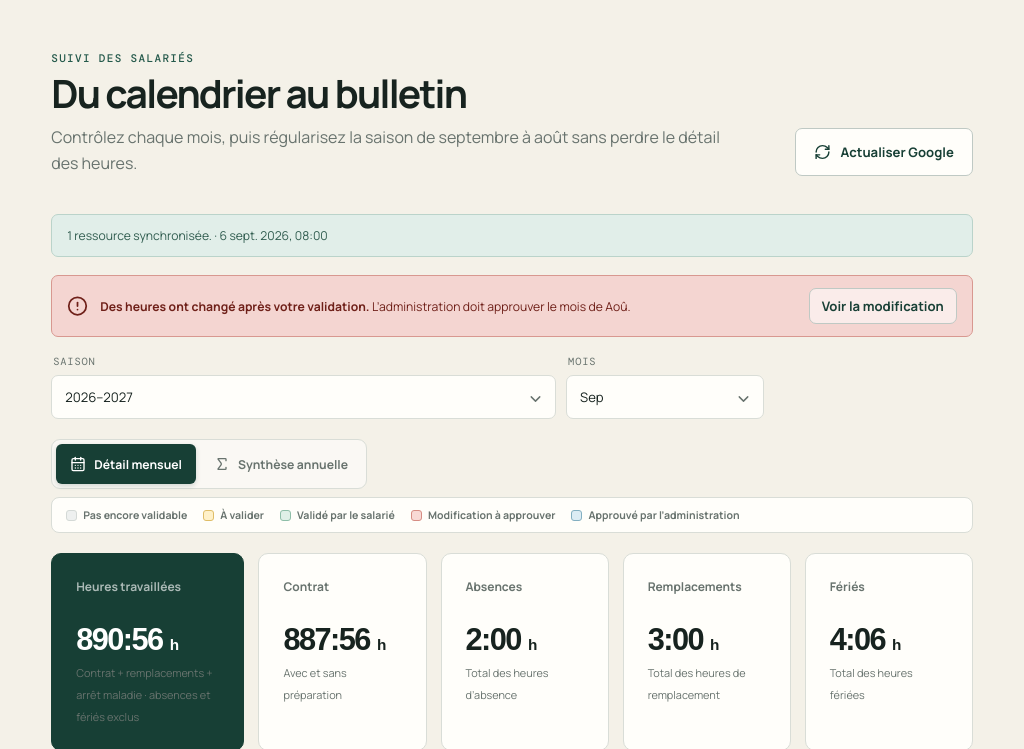
Test: TimeTrackingPage › notifies the employee when a validated month changed
The width and height of the screenshot is (1024, 749).
Check: the text "Des heures ont changé après votre validation." is shown, box [100,298,370,315]
Click the button "Voir la modification" at (883, 306), box [809,288,957,324]
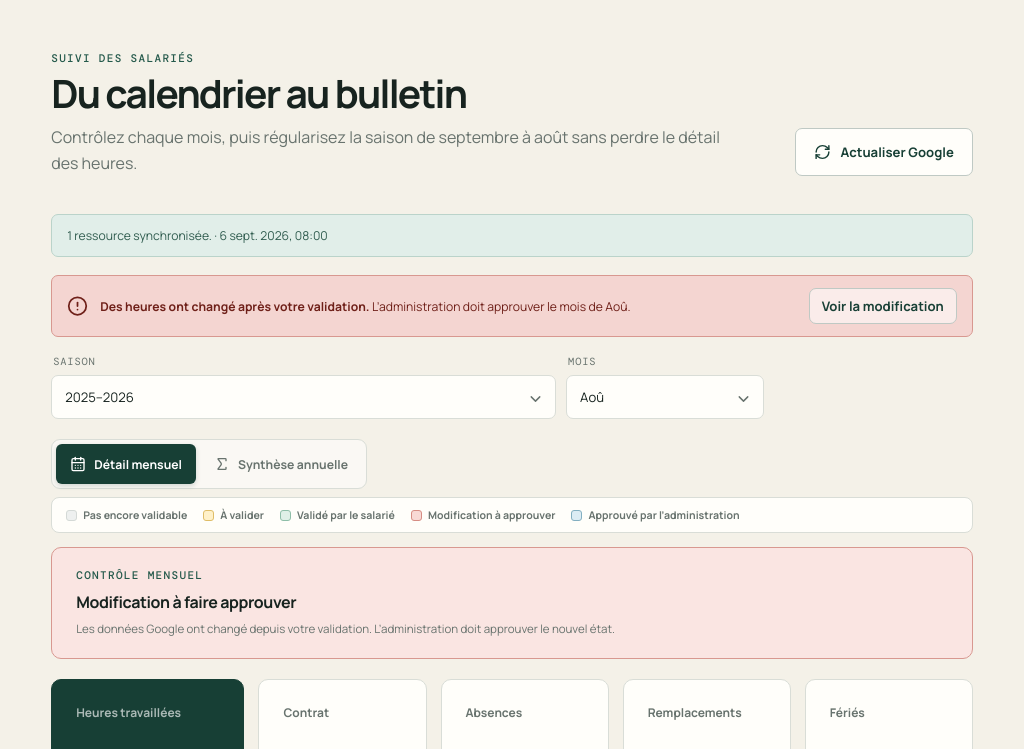
Check: the heading "Modification à faire approuver" is shown, box [76,591,296,613]
